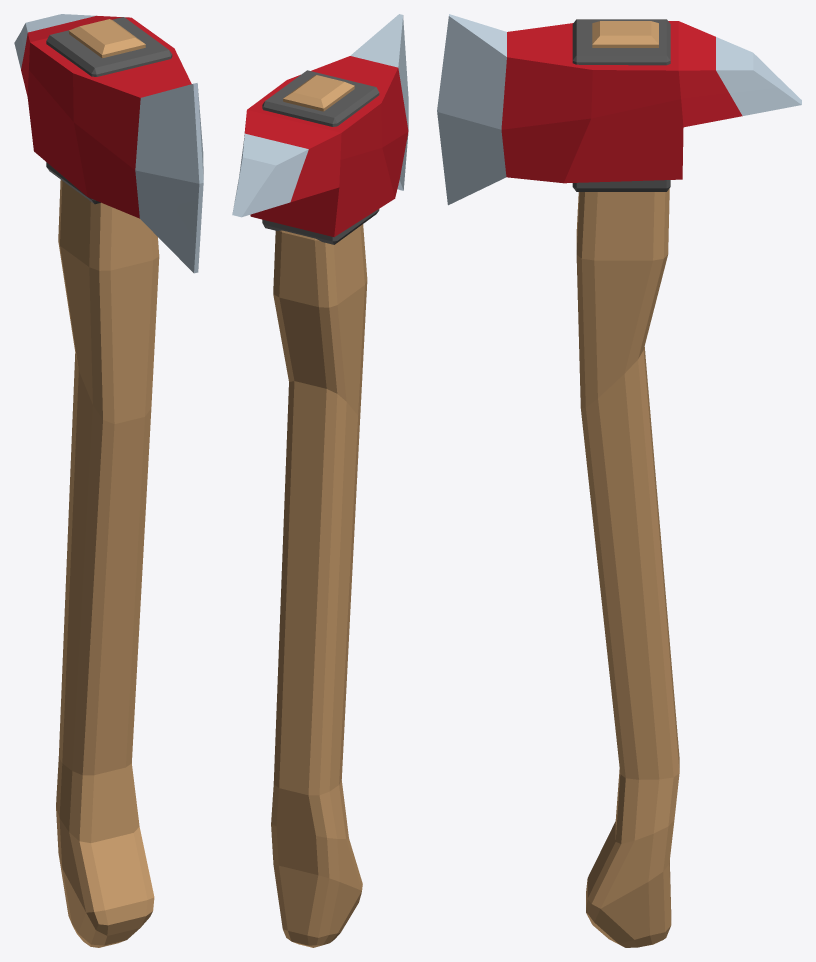
The model's file is Axe.glb.
3 views of the same model, side by side, from view 1: azimuth 30°, elevation 25°; view 2: azimuth 150°, elevation 25°; view 3: azimuth 270°, elevation 25° (orthographic). The views are drawn at different scales.
Parts seen in each view (by area): view 1: Cube, Cube.001, Cube.002; view 2: Cube, Cube.001, Cube.002; view 3: Cube, Cube.001, Cube.002.
Boxes of the visible parts, <box> form: Cube: <box>56,19,159,947</box>; Cube.001: <box>14,14,203,273</box>; Cube.002: <box>46,17,172,204</box>; Cube: <box>271,75,367,947</box>; Cube.001: <box>232,14,408,236</box>; Cube.002: <box>262,70,379,244</box>; Cube: <box>576,21,679,947</box>; Cube.001: <box>437,14,801,205</box>; Cube.002: <box>572,19,670,191</box>.
Size of the model in its own units: 0.1238 by 1.08 by 0.3847.
Materials: 3 (1 with a texture image).
